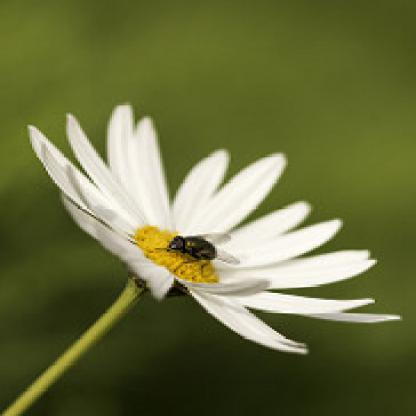ASTER: (3, 74, 410, 377)
